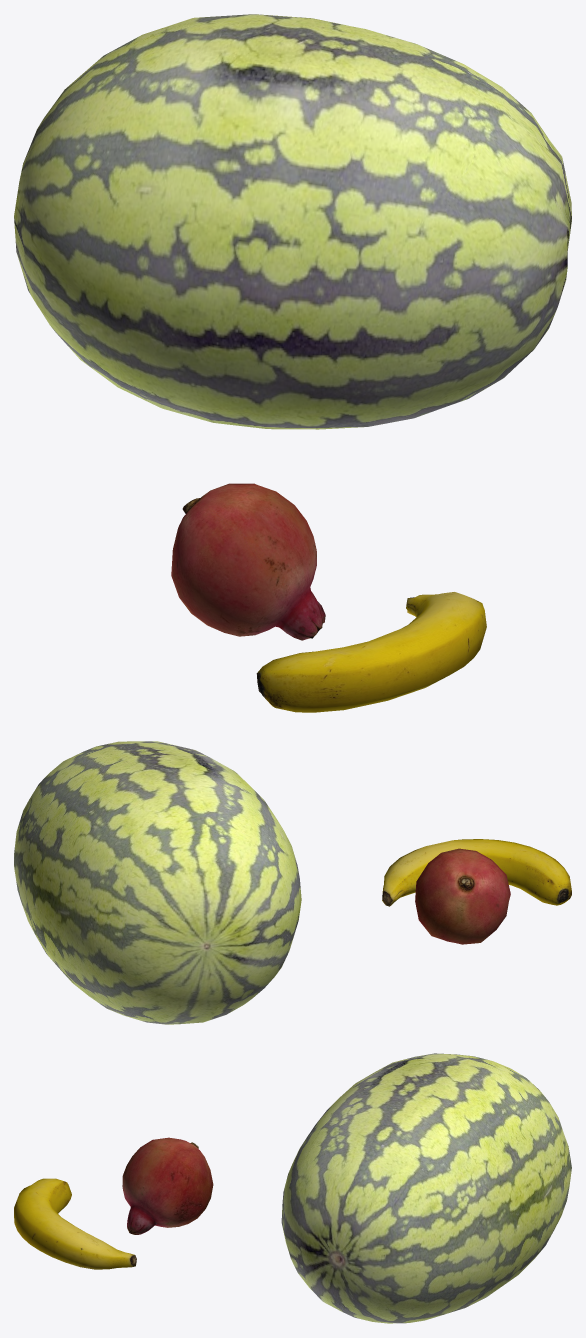
The model's file is melons.glb.
The picture shows the model from 3 angles, top to bottom: view 1: azimuth 30°, elevation 25°; view 2: azimuth 150°, elevation 25°; view 3: azimuth 270°, elevation 25°; orthographic projection. The views are drawn at different scales.
Parts seen in each view (by area): view 1: Watermelon, Pomegranate, Banana; view 2: Watermelon, Pomegranate, Banana; view 3: Watermelon, Pomegranate, Banana.
Part boxes in pixels (box(x1,y1,x2,y2)): Watermelon: box(14, 14, 571, 429); Pomegranate: box(171, 483, 325, 640); Banana: box(256, 592, 486, 712); Watermelon: box(14, 741, 301, 1024); Pomegranate: box(415, 848, 510, 944); Banana: box(382, 839, 571, 906); Watermelon: box(281, 1053, 571, 1323); Pomegranate: box(122, 1137, 213, 1234); Banana: box(14, 1178, 136, 1269).
Size of the model in its own units: 0.3289 by 0.209 by 0.4662.
3 materials, 3 textured.
